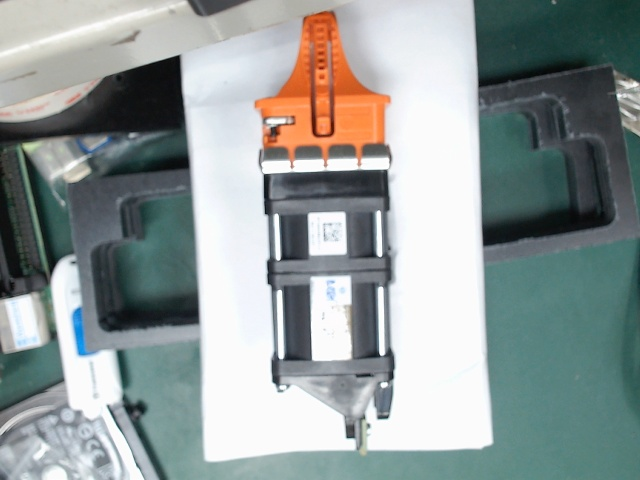4_1: (556, 350, 621, 415)
